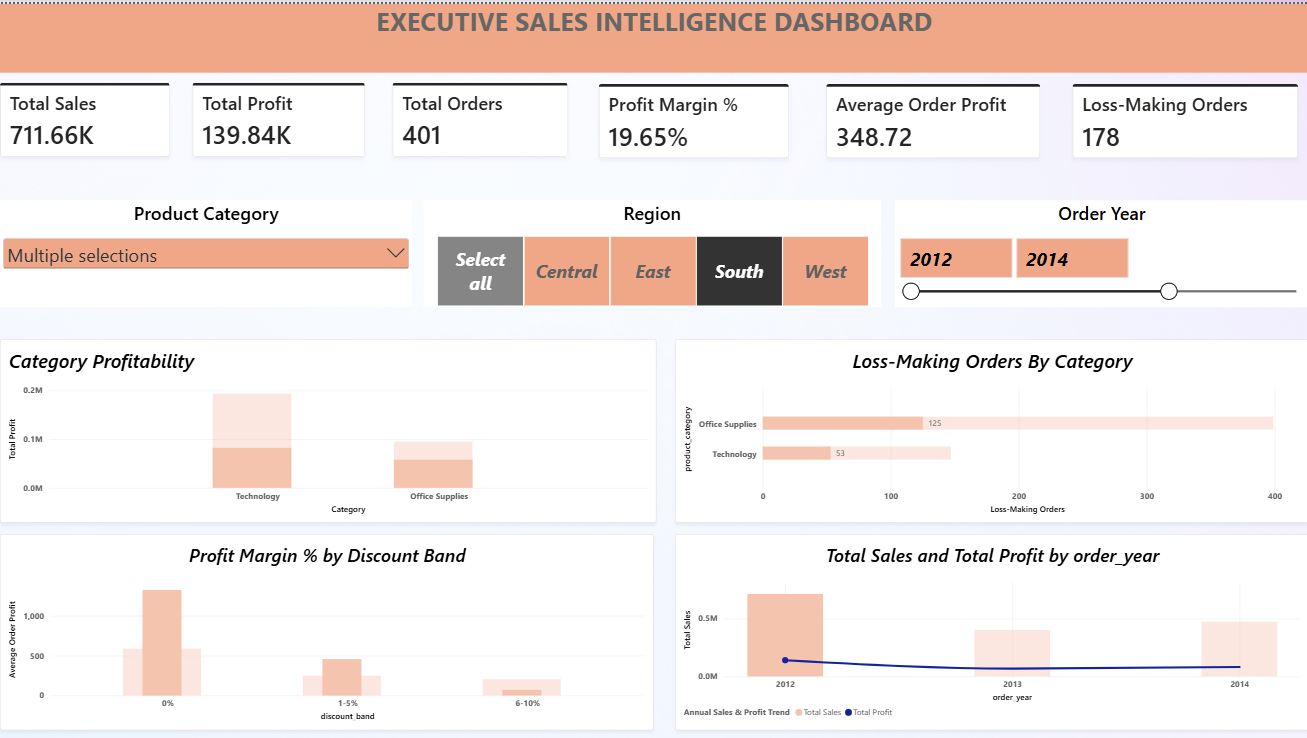

This screenshot's page, from the dashboard's own definition file:
{"tool":"powerbi","page":{"name":"walmart dashbaord","canvas":[1920,1080],"ordinal":0},"visuals":[{"type":"cardVisual","fields":{"Data":["walmart_sales_analysis_ready.Total Sales"]},"box":[0,115.3,249.1,109.1],"z":0},{"type":"cardVisual","fields":{"Data":["walmart_sales_analysis_ready.Total Profit"]},"box":[282,115.3,253.2,109.1],"z":1000},{"type":"cardVisual","fields":{"Data":["walmart_sales_analysis_ready.Total Orders"]},"box":[576.3,115.3,257.3,109.1],"z":2000},{"type":"cardVisual","fields":{"Data":["walmart_sales_analysis_ready.Average Order Profit"]},"box":[1212.4,117.3,314.9,109.1],"z":3000},{"type":"cardVisual","fields":{"Data":["walmart_sales_analysis_ready.Profit Margin %"]},"box":[878.9,117.3,279.9,109.1],"z":4000},{"type":"cardVisual","fields":{"Data":["walmart_sales_analysis_ready.Loss-Making Orders"]},"box":[1574.6,117.3,331.4,109.1],"z":5000},{"type":"clusteredColumnChart","title":"Category Profitability","fields":{"Category":["walmart_sales_analysis_ready.product_category"],"Y":["walmart_sales_analysis_ready.Total Profit"]},"box":[0,491.9,963.3,269.6],"z":6000},{"type":"clusteredBarChart","title":"Loss-Making Orders By Category","fields":{"Category":["walmart_sales_analysis_ready.product_category"],"Y":["walmart_sales_analysis_ready.Loss-Making Orders"]},"box":[990.1,491.9,930.4,269.6],"z":7000},{"type":"clusteredColumnChart","title":"Profit Margin % by Discount Band","fields":{"Category":["walmart_sales_analysis_ready.discount_band"],"Y":["walmart_sales_analysis_ready.Average Order Profit"]},"box":[0,778,959.2,288.2],"z":8000},{"type":"lineClusteredColumnComboChart","fields":{"Category":["walmart_sales_analysis_ready.order_year"],"Y":["walmart_sales_analysis_ready.Total Sales"],"Y2":["walmart_sales_analysis_ready.Total Profit"]},"box":[990.1,778,930.4,288.2],"z":9000},{"type":"slicer","title":"Product Category","fields":{"Values":["walmart_sales_analysis_ready.product_category"]},"box":[0,288.2,605.1,156.4],"z":10000},{"type":"slicer","title":"Region","fields":{"Values":["walmart_sales_analysis_ready.region"]},"box":[621.6,288.2,671,156.4],"z":11000},{"type":"slicer","title":"Order Year","fields":{"Values":["walmart_sales_analysis_ready.order_year"]},"box":[1313.2,288.2,607.2,156.4],"z":12000},{"type":"textbox","box":[0,0,1920.4,100.9],"z":13000}]}

Visuals, with their boxes in screenshot pixels (x1, y1, x2, y2), scaled from the page's 1920x1080 canvas onto the 1307x738 screenshot:
cardVisual - walmart_sales_analysis_ready.Total Sales: {"left": 0, "top": 79, "right": 170, "bottom": 153}
cardVisual - walmart_sales_analysis_ready.Total Profit: {"left": 192, "top": 79, "right": 364, "bottom": 153}
cardVisual - walmart_sales_analysis_ready.Total Orders: {"left": 392, "top": 79, "right": 567, "bottom": 153}
cardVisual - walmart_sales_analysis_ready.Average Order Profit: {"left": 825, "top": 80, "right": 1040, "bottom": 155}
cardVisual - walmart_sales_analysis_ready.Profit Margin %: {"left": 598, "top": 80, "right": 789, "bottom": 155}
cardVisual - walmart_sales_analysis_ready.Loss-Making Orders: {"left": 1072, "top": 80, "right": 1297, "bottom": 155}
"Category Profitability" clusteredColumnChart: {"left": 0, "top": 336, "right": 656, "bottom": 520}
"Loss-Making Orders By Category" clusteredBarChart: {"left": 674, "top": 336, "right": 1306, "bottom": 520}
"Profit Margin % by Discount Band" clusteredColumnChart: {"left": 0, "top": 532, "right": 653, "bottom": 729}
lineClusteredColumnComboChart - walmart_sales_analysis_ready.order_year x walmart_sales_analysis_ready.Total Sales: {"left": 674, "top": 532, "right": 1306, "bottom": 729}
"Product Category" slicer: {"left": 0, "top": 197, "right": 412, "bottom": 304}
"Region" slicer: {"left": 423, "top": 197, "right": 880, "bottom": 304}
"Order Year" slicer: {"left": 894, "top": 197, "right": 1306, "bottom": 304}
textbox: {"left": 0, "top": 0, "right": 1306, "bottom": 69}
